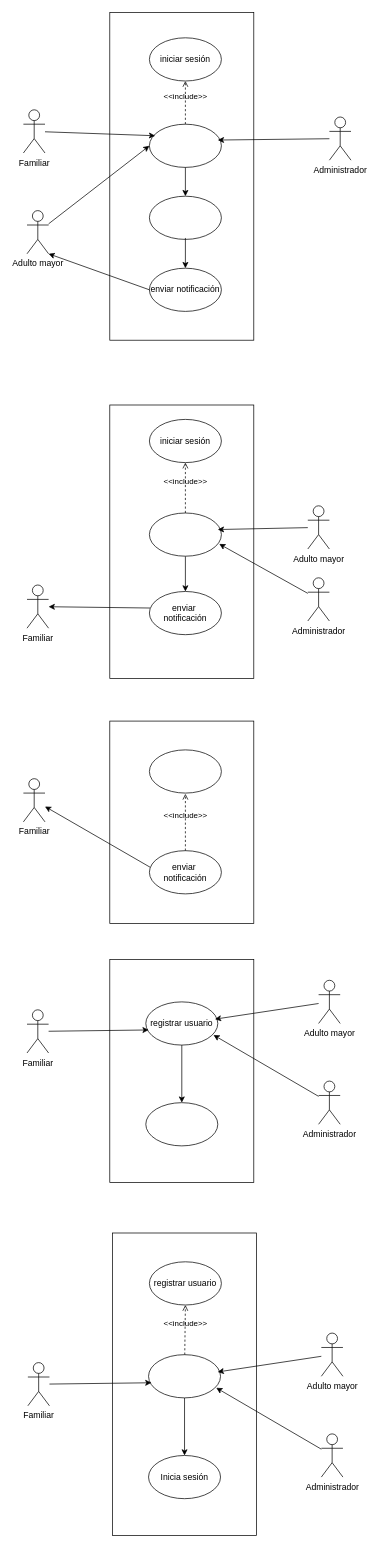
This 379x1548 diagram has some shape labels left out. Here are the shapes that lost their labels. From the top down, the box of each, then its label:
(149, 123, 221, 167): crear rutina o evento
(149, 195, 221, 239): ocurre evento o rutina
(149, 512, 221, 556): activar botón de pánico
(149, 749, 221, 793): Sistema detecta caída
(145, 1102, 218, 1146): ingresar datos solicitados
(148, 1354, 221, 1398): ingresar credenciales
